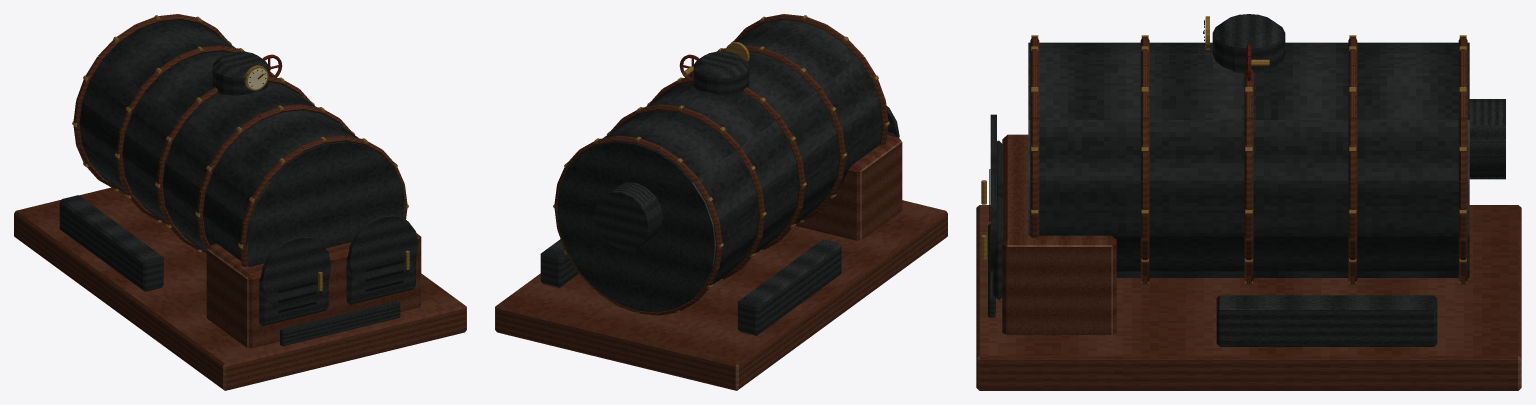
Rendered from level_boiler_coal.glb.
The picture shows the model from 3 angles, left to right: view 1: azimuth 30°, elevation 25°; view 2: azimuth 150°, elevation 25°; view 3: azimuth 270°, elevation 25°; orthographic projection. The views are drawn at different scales.
Parts seen in each view (by area): view 1: level_boiler_coal; view 2: level_boiler_coal; view 3: level_boiler_coal.
Boxes of the visible parts, x1,y1,x2,y2 form: level_boiler_coal: [14, 14, 466, 390]; level_boiler_coal: [495, 14, 947, 390]; level_boiler_coal: [976, 14, 1521, 390].
Size of the model in its own units: 2.8 by 2.53 by 4.2.
Materials: 6 (6 with a texture image).
